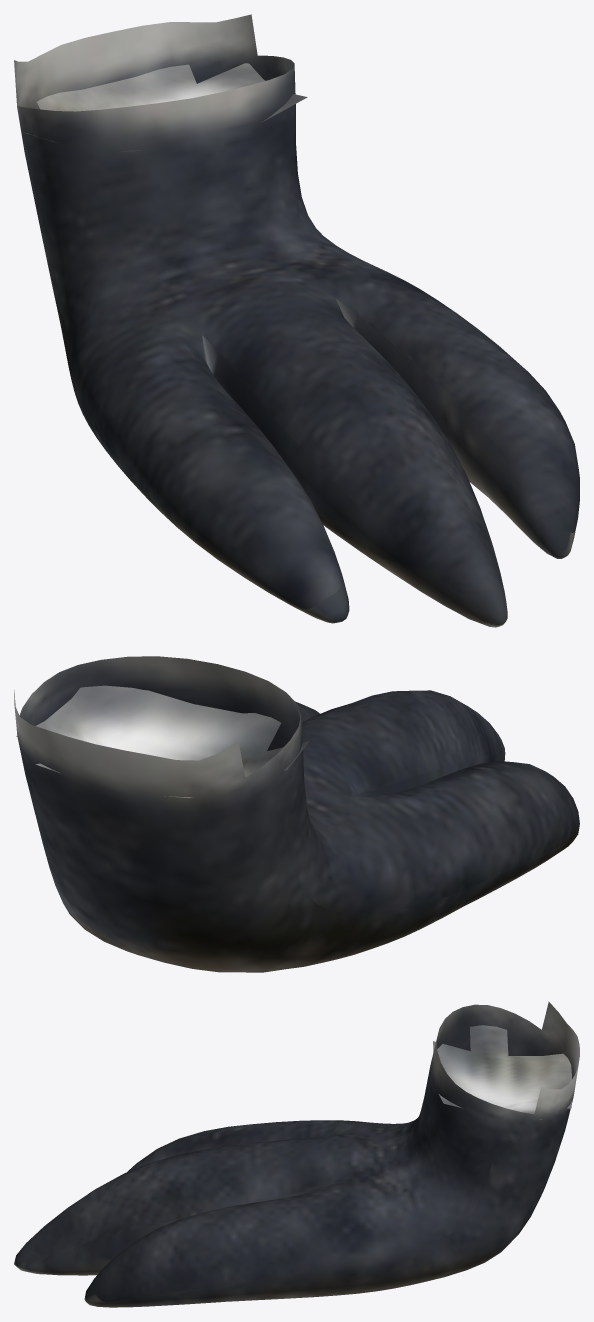
File: pataDerecha.obj
3 views of the same model, one above another, from view 1: azimuth 30°, elevation 25°; view 2: azimuth 150°, elevation 25°; view 3: azimuth 270°, elevation 25° (orthographic). The views are drawn at different scales.
Visible parts, largest first — view 1: pataDerecha; view 2: pataDerecha; view 3: pataDerecha.
Boxes of the visible parts, x1,y1,x2,y2 form: pataDerecha: (14, 14, 579, 627); pataDerecha: (14, 656, 579, 972); pataDerecha: (14, 1001, 579, 1307).
Size of the model in its own units: 0.9324 by 0.7547 by 1.68.
1 material, 1 textured.
